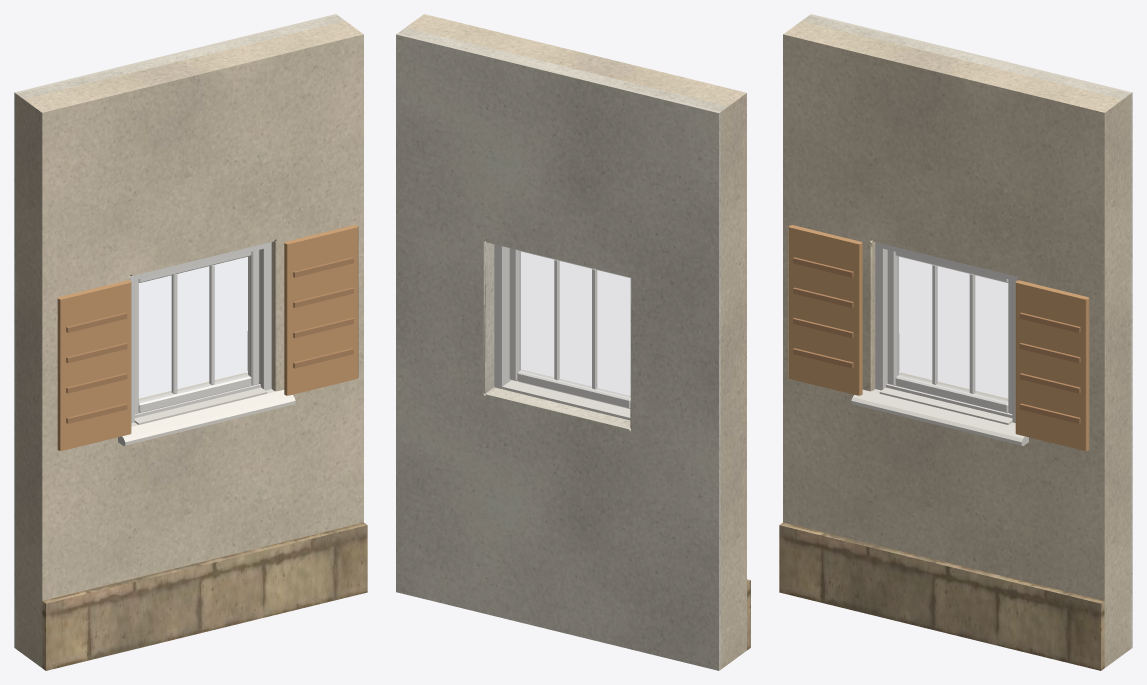
The model's file is wall_garage_window.glb.
The picture shows the model from 3 angles, left to right: view 1: azimuth 30°, elevation 25°; view 2: azimuth 150°, elevation 25°; view 3: azimuth 330°, elevation 25°; orthographic projection.
Parts seen in each view (by area): view 1: wall_garage_window_render, wall_garage_window_stone2, wall_garage_window_shutter, folha_glass, folha_sash, wall_garage_window_plaster, wall_garage_window_trim, wall_garage_window_frame, wall_garage_window_shutter_dark; view 2: wall_garage_window_plaster, wall_garage_window_render, folha_glass, folha_sash, wall_garage_window_frame, wall_garage_window_trim; view 3: wall_garage_window_render, wall_garage_window_stone2, wall_garage_window_shutter, folha_glass, folha_sash, wall_garage_window_plaster, wall_garage_window_trim, wall_garage_window_frame, wall_garage_window_shutter_dark.
Part boxes in pixels (x1=…): wall_garage_window_render: x1=16, y1=21, x2=363, y2=667; wall_garage_window_stone2: x1=42, y1=522, x2=367, y2=670; wall_garage_window_shutter: x1=57, y1=225, x2=358, y2=450; folha_glass: x1=139, y1=257, x2=249, y2=401; folha_sash: x1=134, y1=250, x2=259, y2=414; wall_garage_window_plaster: x1=14, y1=14, x2=344, y2=648; wall_garage_window_trim: x1=118, y1=385, x2=295, y2=445; wall_garage_window_frame: x1=130, y1=242, x2=271, y2=422; wall_garage_window_shutter_dark: x1=66, y1=257, x2=353, y2=423; wall_garage_window_plaster: x1=396, y1=27, x2=727, y2=670; wall_garage_window_render: x1=406, y1=14, x2=746, y2=669; folha_glass: x1=519, y1=252, x2=629, y2=396; folha_sash: x1=509, y1=248, x2=631, y2=408; wall_garage_window_frame: x1=494, y1=244, x2=510, y2=388; wall_garage_window_trim: x1=502, y1=380, x2=630, y2=420; wall_garage_window_render: x1=783, y1=21, x2=1130, y2=667; wall_garage_window_stone2: x1=779, y1=522, x2=1104, y2=670; wall_garage_window_shutter: x1=788, y1=225, x2=1089, y2=450; folha_glass: x1=897, y1=257, x2=1007, y2=401; folha_sash: x1=887, y1=250, x2=1012, y2=414; wall_garage_window_plaster: x1=802, y1=14, x2=1132, y2=648; wall_garage_window_trim: x1=851, y1=385, x2=1028, y2=445; wall_garage_window_frame: x1=875, y1=242, x2=1017, y2=422; wall_garage_window_shutter_dark: x1=793, y1=257, x2=1080, y2=423.
Size of the model in its own units: 2 by 3.3 by 0.385.
9 materials, 3 textured.
